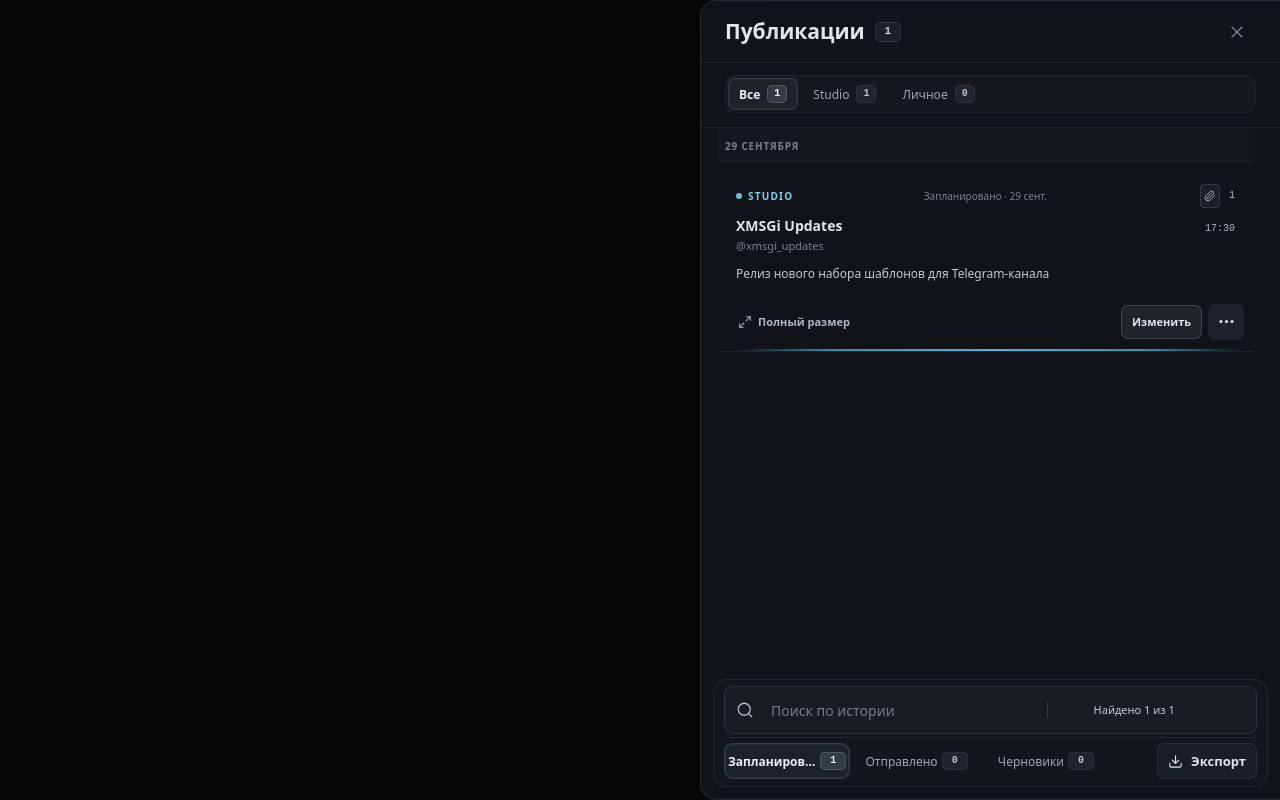
Test: HistoryDrawer search › does not mention drafts in the empty Personal state
Click the button "Личное 0" at (939, 94), box [891,78,986,110]
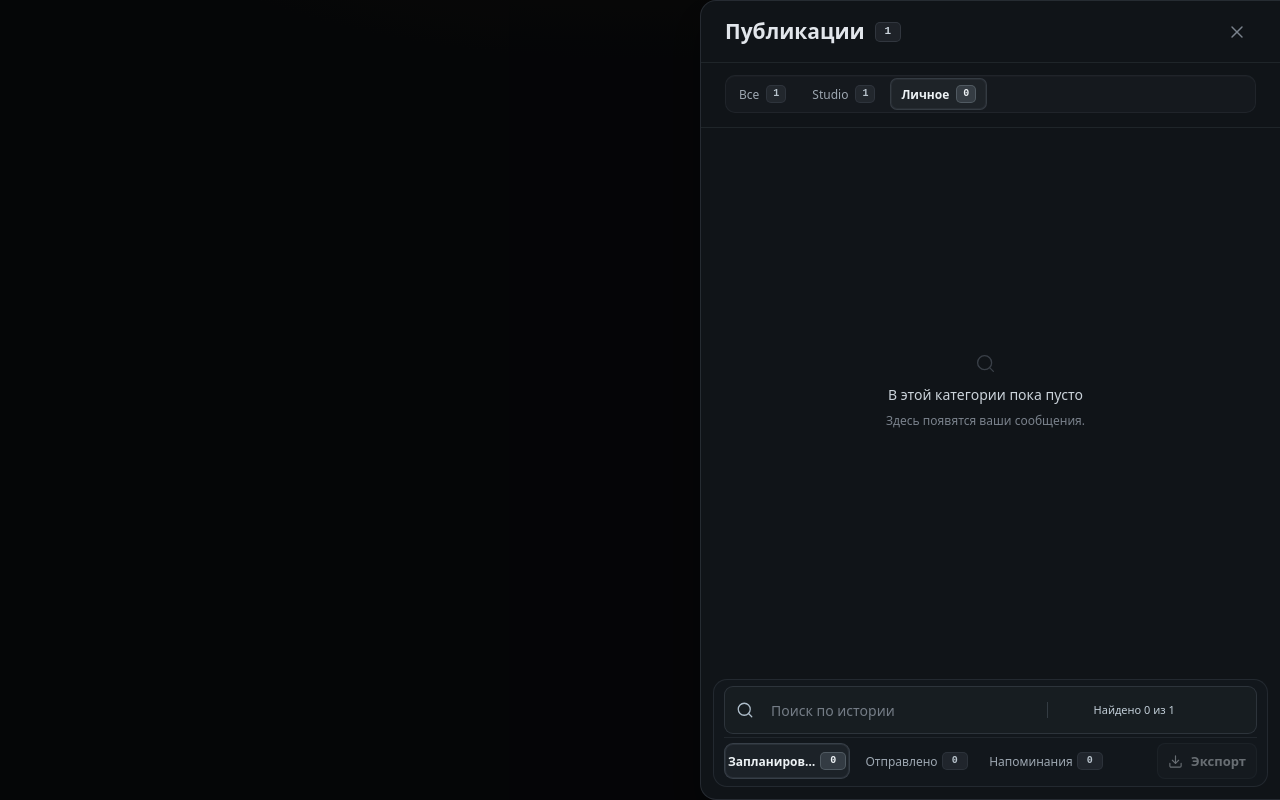
Check: the text "Здесь появятся ваши сообщения." is shown, box [886,412,1085,430]
Check: the tab "Черновик" is gone
